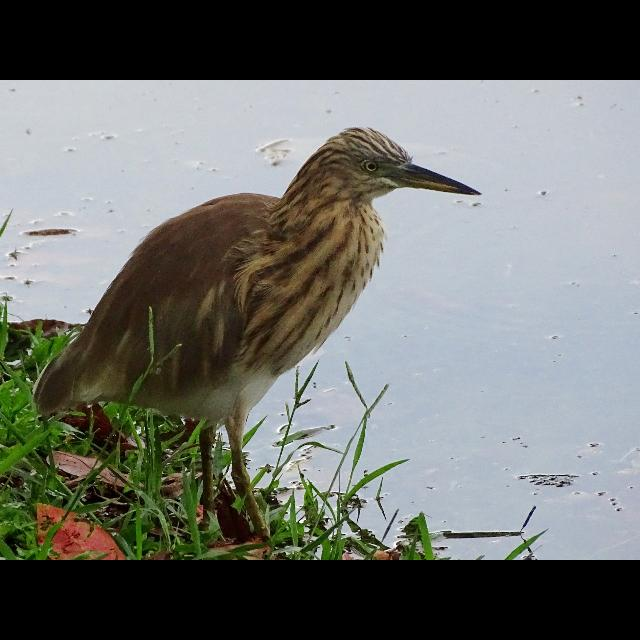heron: (33, 124, 487, 560)
